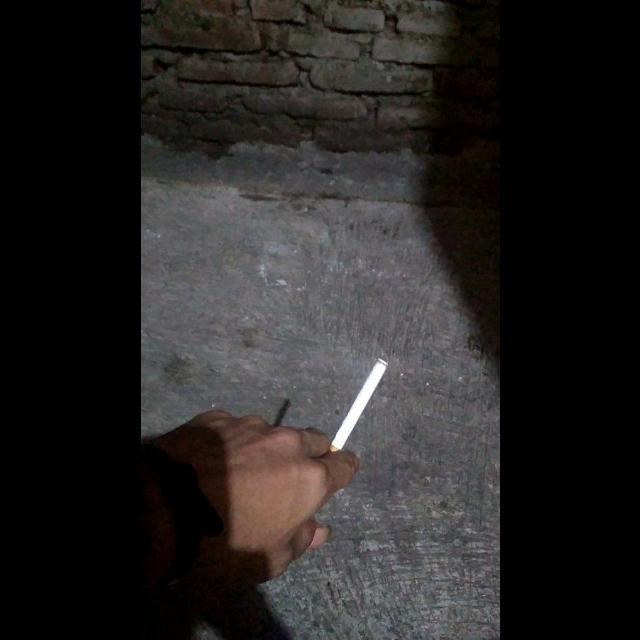rokok: (315, 357, 389, 453)
